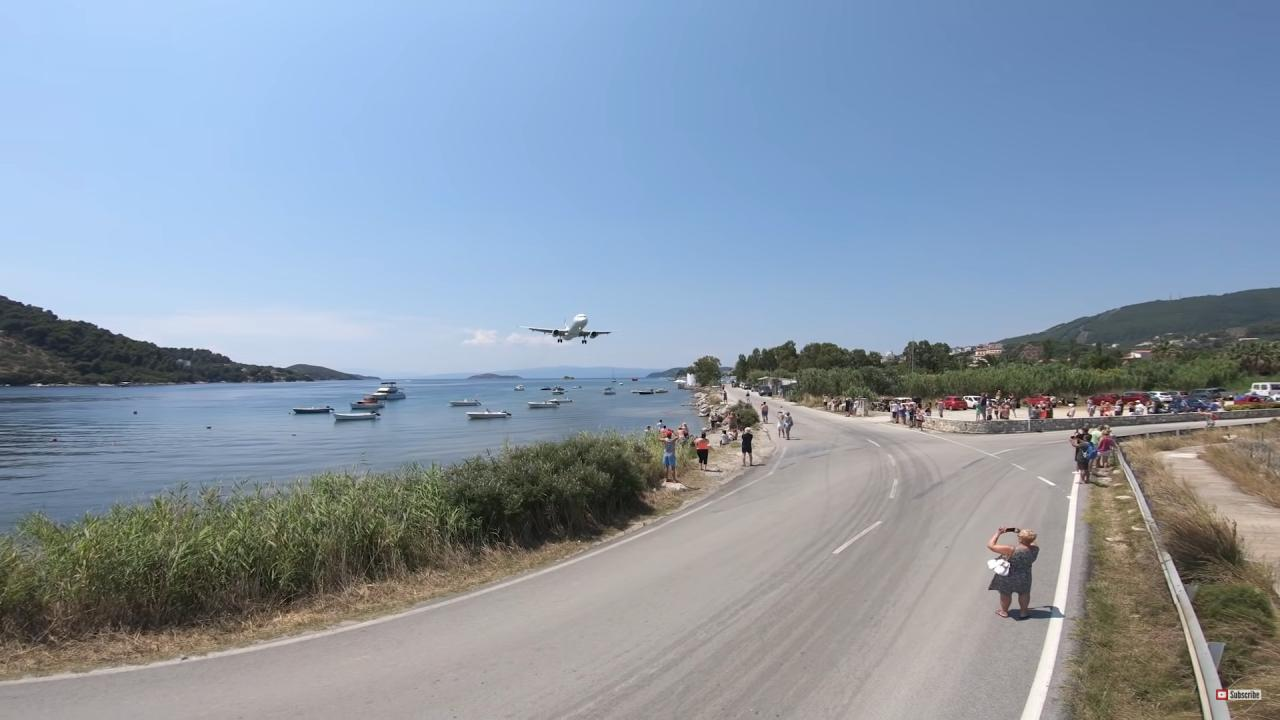Airplane: (519, 305, 621, 355)
